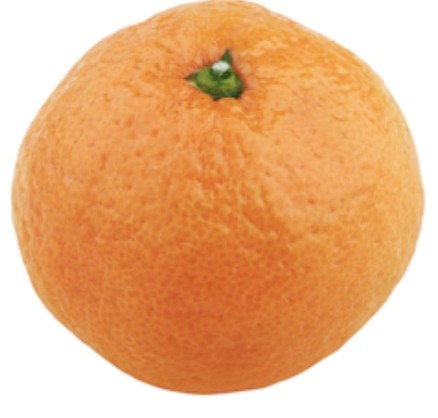fresh_orange: (14, 2, 427, 394)
